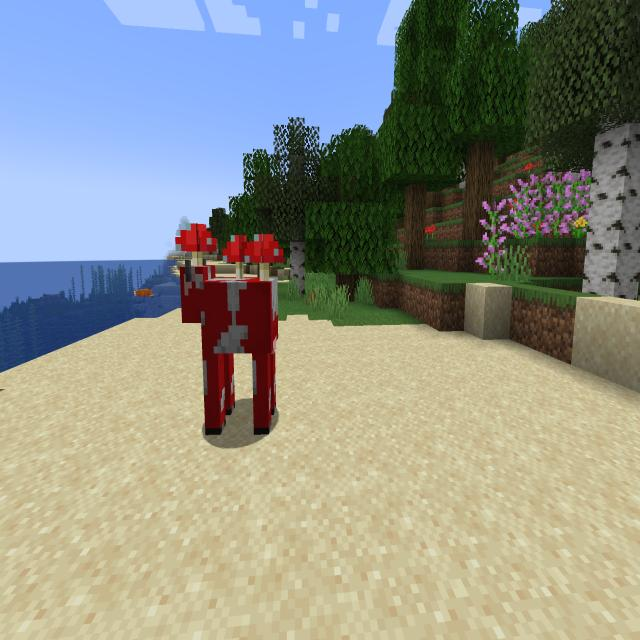Fox: (134, 286, 154, 304)
Mooshroom: (172, 218, 288, 456)
